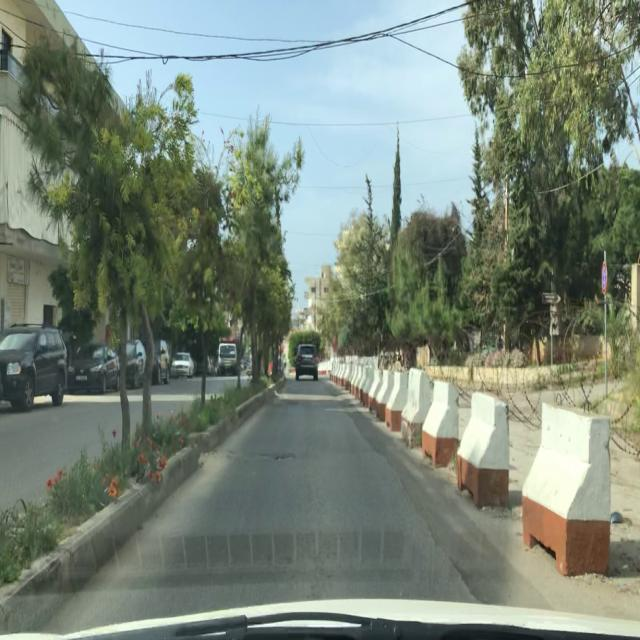Pothole: (270, 453, 296, 465)
